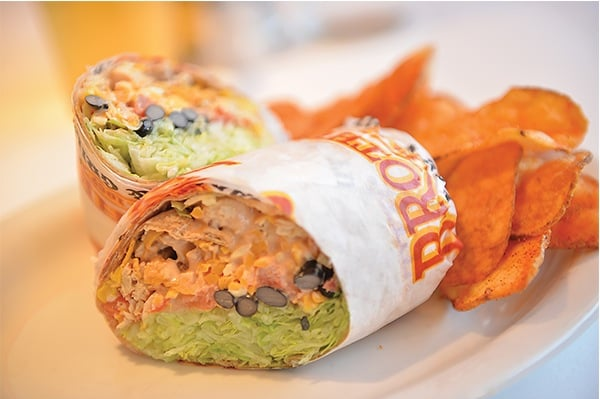soup: (96, 115, 464, 370)
sushi: (72, 52, 287, 251)
